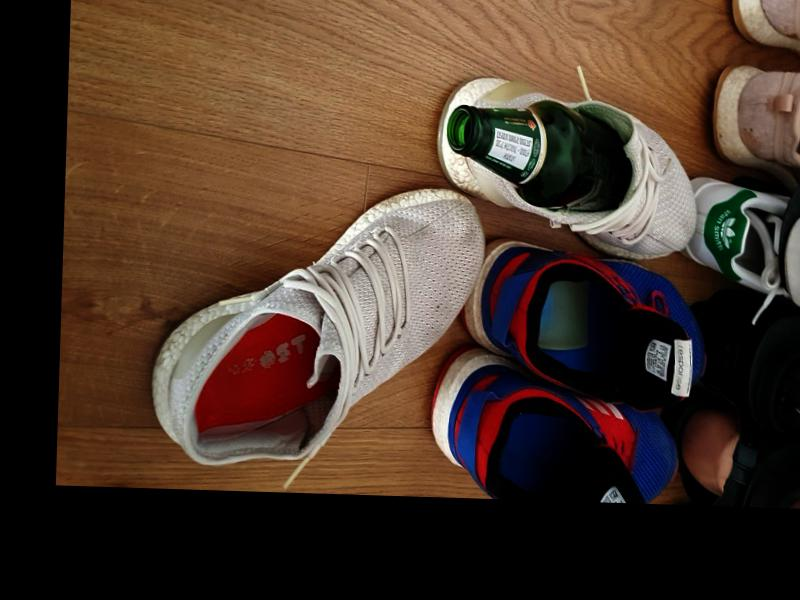Beer: (443, 97, 631, 215)
